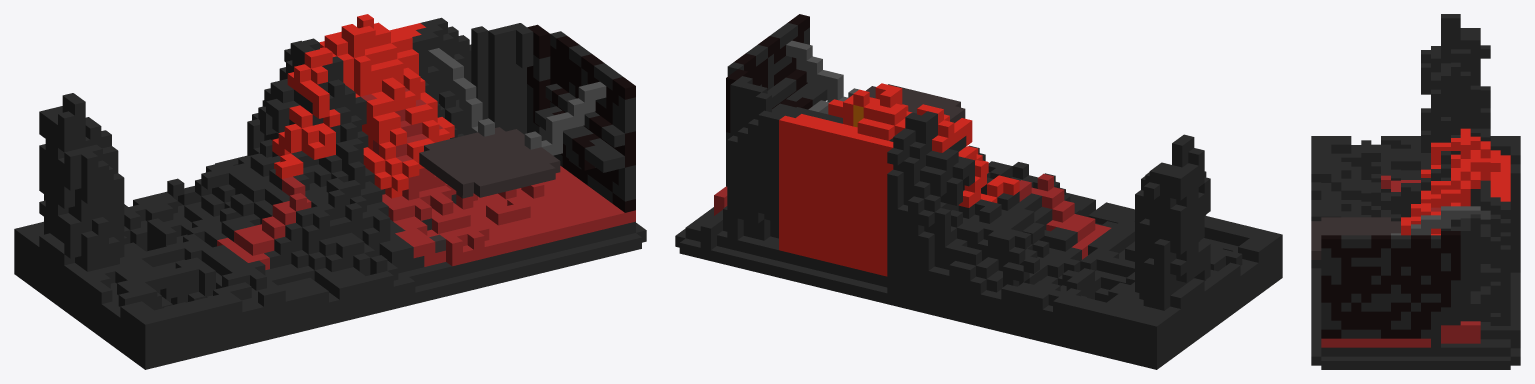
Rendered from World fire part 2.gltf.
3 views of the same model, side by side, from view 1: azimuth 30°, elevation 25°; view 2: azimuth 150°, elevation 25°; view 3: azimuth 270°, elevation 25° (orthographic). The views are drawn at different scales.
Parts seen in each view (by area): view 1: Layer.2, Layer.1; view 2: Layer.2, Layer.1; view 3: Layer.1, Layer.2.
Part boxes in pixels (x1=…): Layer.2: x1=14, y1=38, x2=425, y2=369; Layer.1: x1=319, y1=14, x2=646, y2=301; Layer.2: x1=887, y1=104, x2=1282, y2=369; Layer.1: x1=675, y1=14, x2=965, y2=303; Layer.1: x1=1311, y1=136, x2=1520, y2=369; Layer.2: x1=1311, y1=14, x2=1520, y2=272.
Bounding box in the file's own units: 47 × 18 × 21.
1 material, 1 textured.
